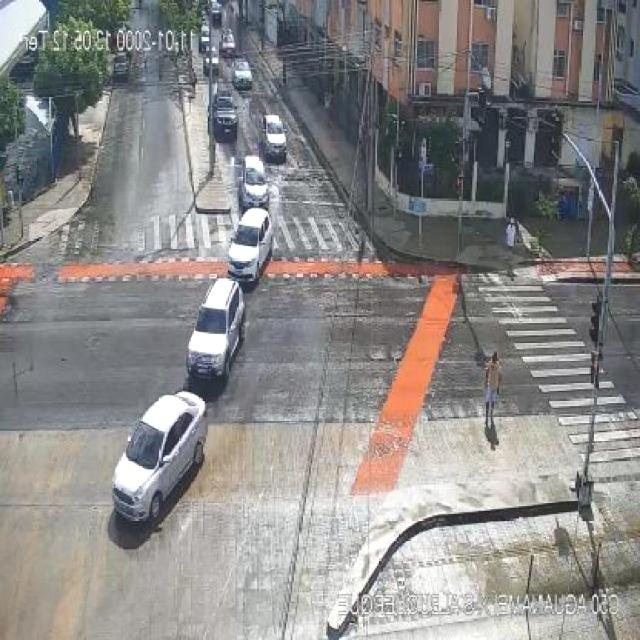Car: (108, 388, 209, 525), (186, 279, 247, 380), (227, 207, 274, 285), (238, 156, 270, 208), (212, 93, 238, 138), (262, 114, 287, 160), (232, 61, 253, 89), (112, 53, 130, 82), (214, 88, 234, 111), (202, 51, 220, 76), (220, 30, 237, 56), (199, 25, 210, 52), (210, 1, 222, 24)
